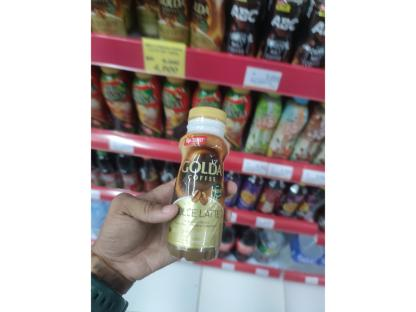Plastic Bottle: (157, 99, 243, 279)
